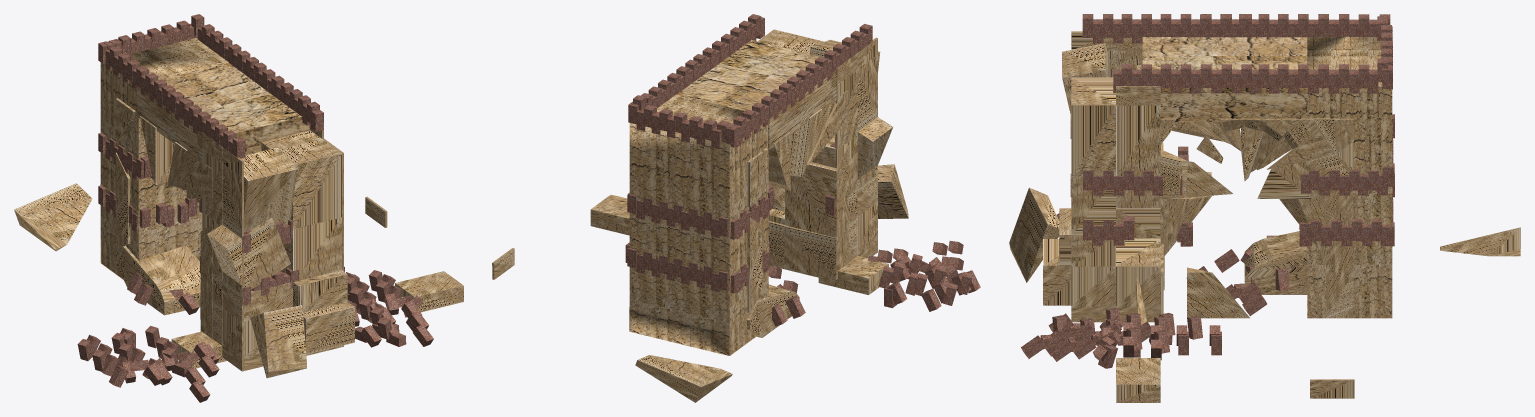
Rendered from Sumerian_entrance_semidemolished.fbx.
3 views of the same model, side by side, from view 1: azimuth 30°, elevation 25°; view 2: azimuth 150°, elevation 25°; view 3: azimuth 270°, elevation 25° (orthographic). The views are drawn at different scales.
Visible parts, largest first — view 1: Cube.340, Cube.149, Cube.151_cell.018, Circle_cell.015, Cube.151_cell.004, Cube.151_cell.029, Circle_cell.016, Circle_cell.024, Cube.151_cell.047, Cube.151_cell.007, Cube.151_cell.038, Cube.151_cell.024 (+19 smaller); view 2: Cube.340, Cube.149, Circle_cell.064, Circle_cell.034, Circle_cell.024, Cube.151_cell.001, Cube.151_cell.029, Circle_cell.016, Circle_cell.015, Cube.151_cell.027, Cube.151_cell.038, Circle_cell.057 (+13 smaller); view 3: Cube.340, Cube.149, Cube.151_cell.022, Cube.151_cell.036, Circle_cell.015, Circle_cell.016, Circle_cell.041, Cube.151_cell.038, Cube.151_cell.015, Cube.151_cell.033, Cube.151_cell.037, Cube.151_cell.004 (+28 smaller).
Part boxes in pixels (x1,y1,x2,y2): Cube.340: (100,37,228,279); Cube.149: (137,63,309,163); Cube.151_cell.018: (279,139,341,228); Circle_cell.015: (115,245,200,315); Cube.151_cell.004: (241,147,296,231); Cube.151_cell.029: (207,218,290,289); Circle_cell.016: (250,305,306,378); Circle_cell.024: (14,183,92,251); Cube.151_cell.047: (281,217,341,280); Cube.151_cell.007: (303,301,354,354); Cube.151_cell.038: (395,271,463,312); Cube.151_cell.024: (293,270,347,312); Cube.340: (629,94,768,355); Cube.149: (677,40,836,149); Circle_cell.064: (785,162,848,237); Circle_cell.034: (784,225,848,279); Circle_cell.024: (635,355,732,402); Cube.151_cell.001: (818,256,888,294); Cube.151_cell.029: (857,117,892,179); Circle_cell.016: (878,164,908,218); Circle_cell.015: (747,284,799,337); Cube.151_cell.027: (857,55,877,131); Cube.151_cell.038: (590,194,629,235); Circle_cell.057: (790,109,822,176); Cube.340: (1307,36,1392,318); Cube.149: (1142,37,1307,121); Cube.151_cell.022: (1071,104,1115,176); Cube.151_cell.036: (1116,105,1160,175); Circle_cell.015: (1244,231,1307,294); Circle_cell.016: (1009,187,1059,282); Circle_cell.041: (1187,267,1249,318); Cube.151_cell.038: (1116,358,1160,402); Cube.151_cell.015: (1071,266,1115,306); Cube.151_cell.033: (1071,176,1115,235); Cube.151_cell.037: (1116,265,1160,306); Cube.151_cell.004: (1062,43,1113,116).
Size of the model in its own units: 1132 by 683 by 1203.
